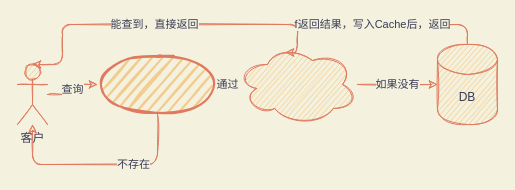
This 515x190 diagram has some shape labels left out. Each missing label, with the centre of its shape:
Cache: the point at 297,84
布隆过滤器: the point at 157,84
